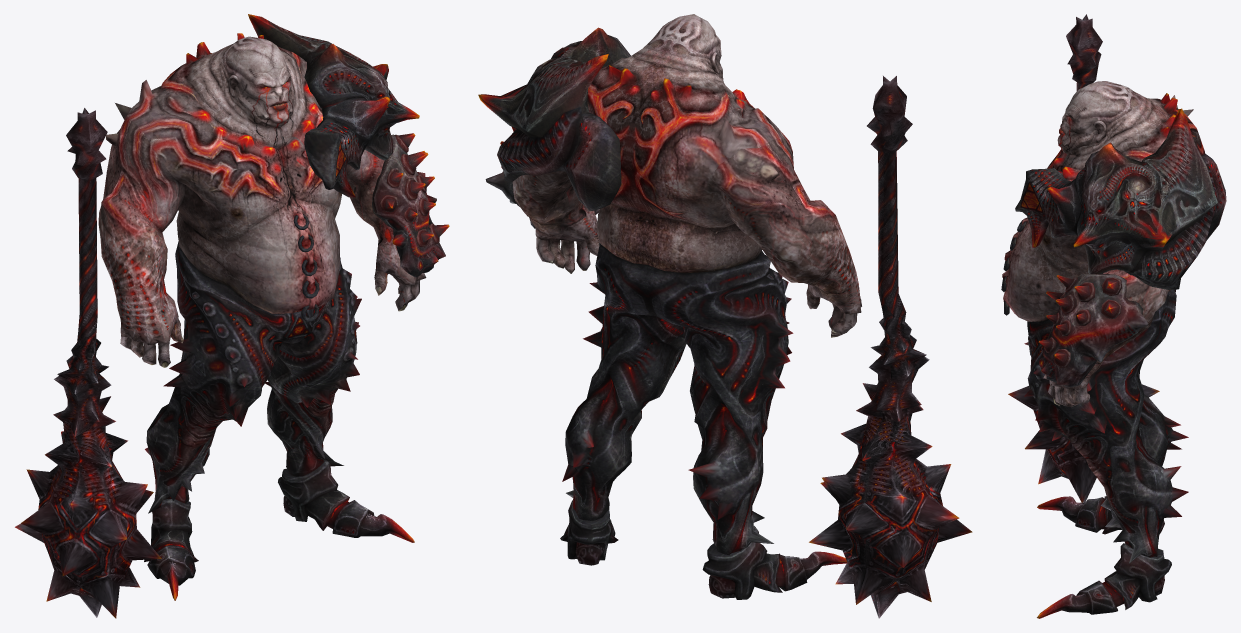
File: imrod.fbx
3 renders of one model, left to right at view 1: azimuth 30°, elevation 25°; view 2: azimuth 150°, elevation 25°; view 3: azimuth 270°, elevation 25°, orthographic. The views are drawn at different scales.
Parts seen in each view (by area): view 1: ImrodLowPoly:polySurface23, ImrodLowPoly:polySurface7; view 2: ImrodLowPoly:polySurface23, ImrodLowPoly:polySurface7; view 3: ImrodLowPoly:polySurface23, ImrodLowPoly:polySurface7.
Part boxes in pixels (x1,y1,x2,y2): ImrodLowPoly:polySurface23: (98,14,449,600); ImrodLowPoly:polySurface7: (15,108,161,618); ImrodLowPoly:polySurface23: (478,14,861,599); ImrodLowPoly:polySurface7: (809,76,972,618); ImrodLowPoly:polySurface23: (1001,81,1226,618); ImrodLowPoly:polySurface7: (1008,14,1159,502).
Size of the model in its own units: 12.95 by 15.66 by 6.39.
1 material, 1 textured.
